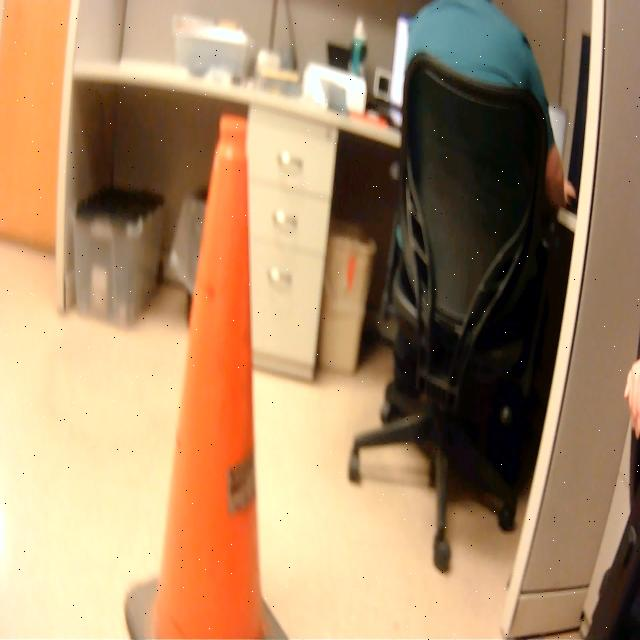traffic cone: (117, 101, 302, 640)
